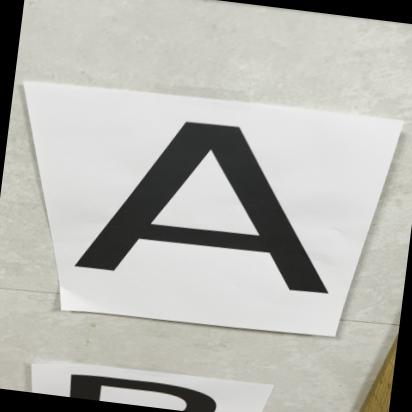seat: (59, 94, 372, 306)
